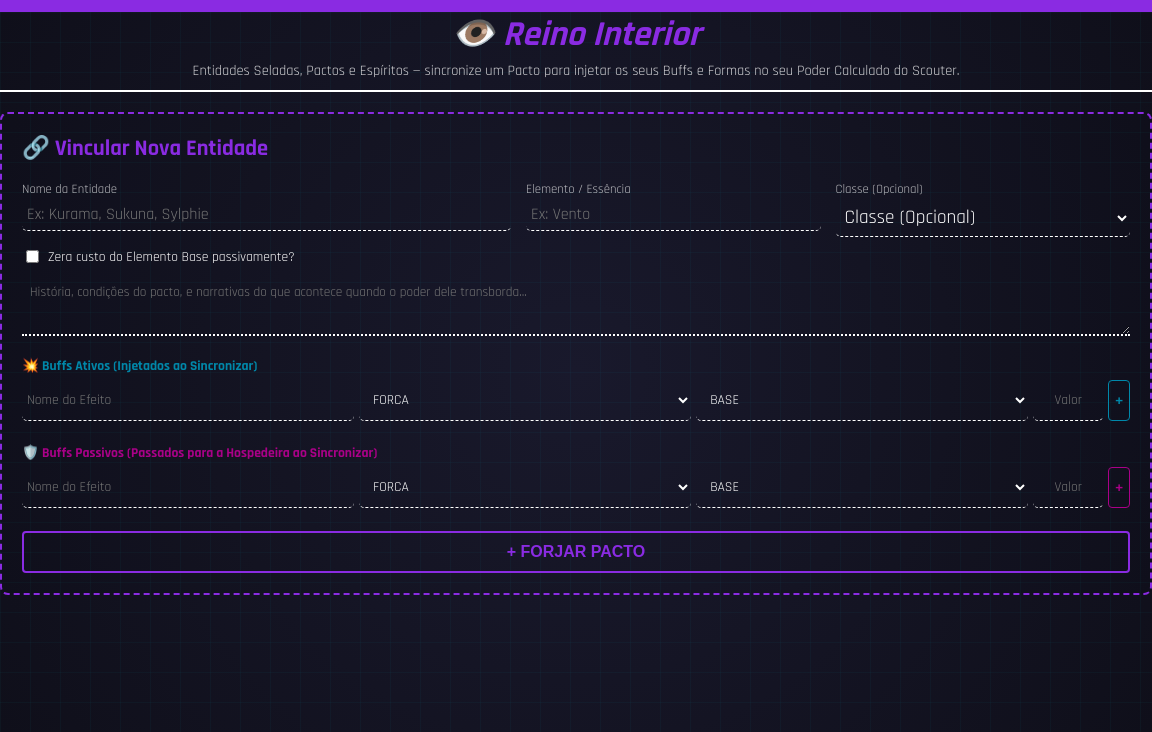
Scenario: PactosPanel — rascunho de Buffs Ativos/Passivos (antes de salvar o Pacto) › adicionar um Buff Ativo via nome+atributo+propriedade+valor+"+" gera um chip com "X" na lista local
The image size is (1152, 732).
Type "Garra Flamejante" into the 1st field with placeholder "Nome do Efeito" at (188, 400), box [22,380,354,421]
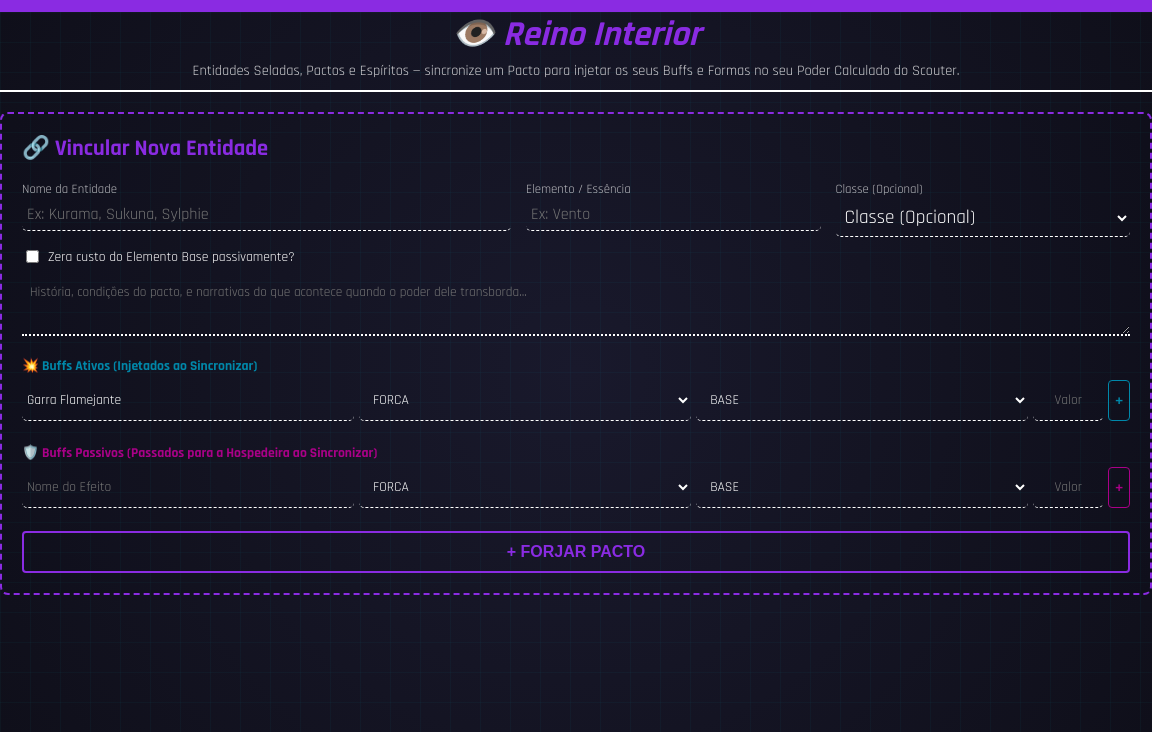
Type "7" into the 1st field with placeholder "Valor" at (1068, 400), box [1033,380,1103,421]
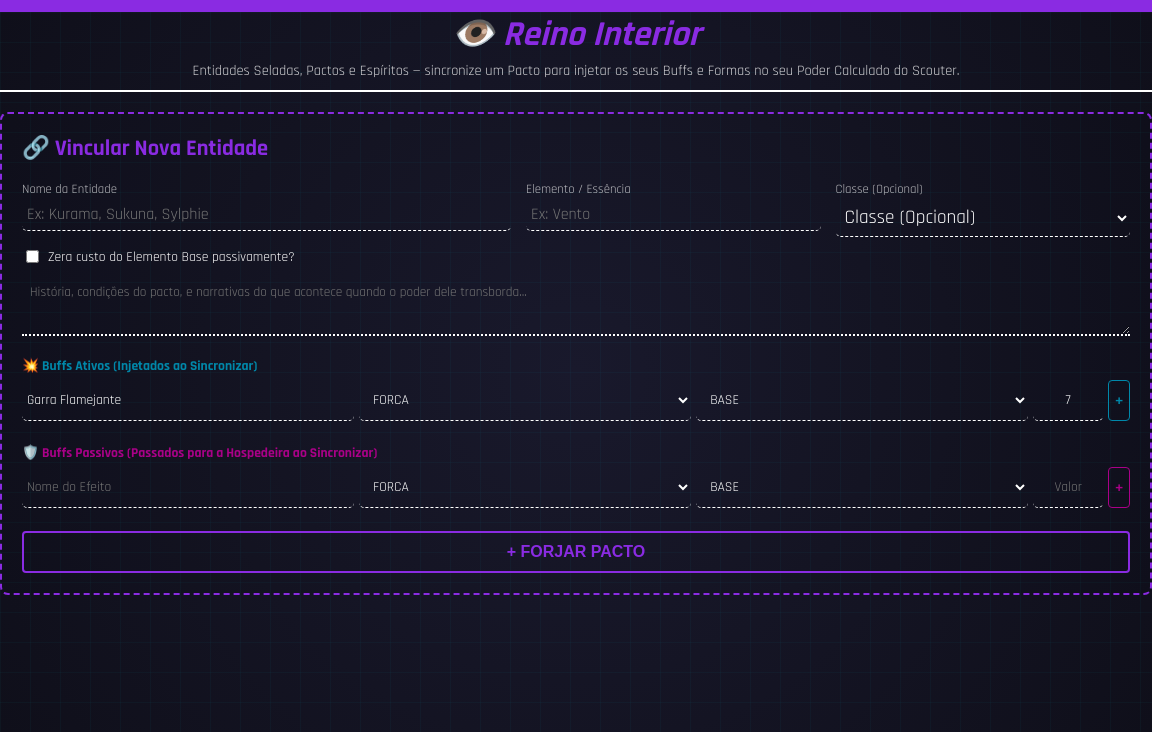
Click the 1st button "+" at (1119, 400), box [1108,380,1130,421]
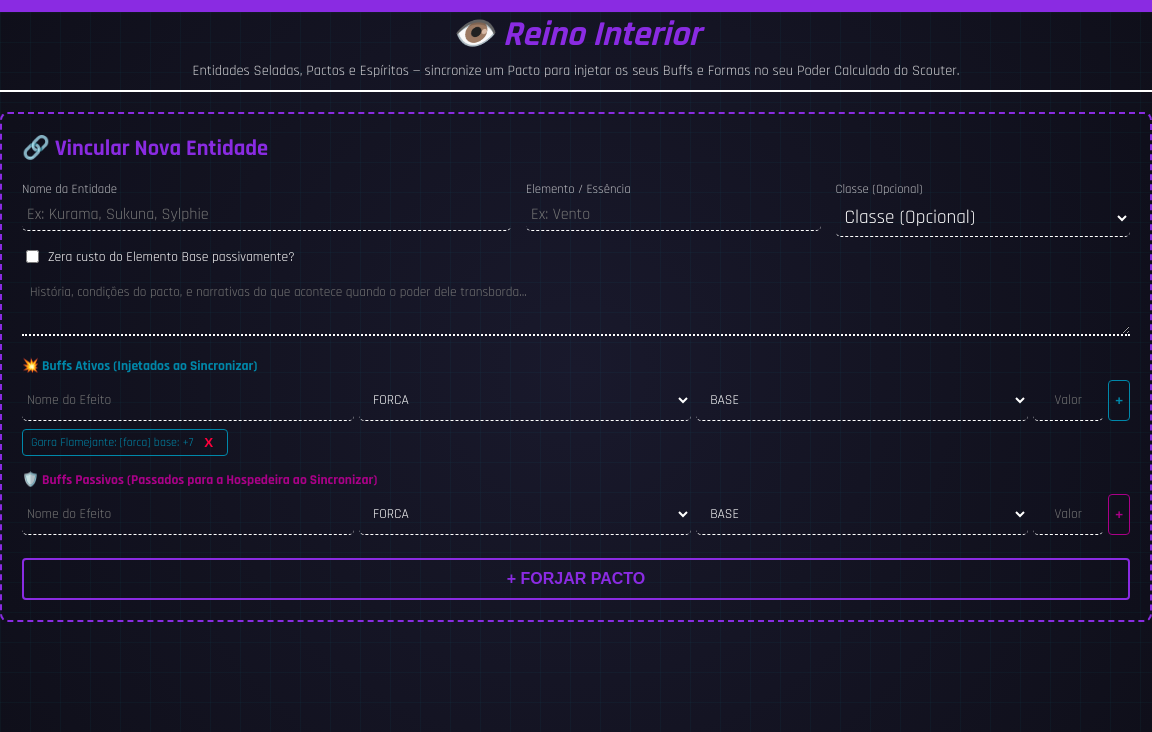
Now the text "Garra Flamejante: [forca] base: +7" is shown, box [31,435,193,450]
